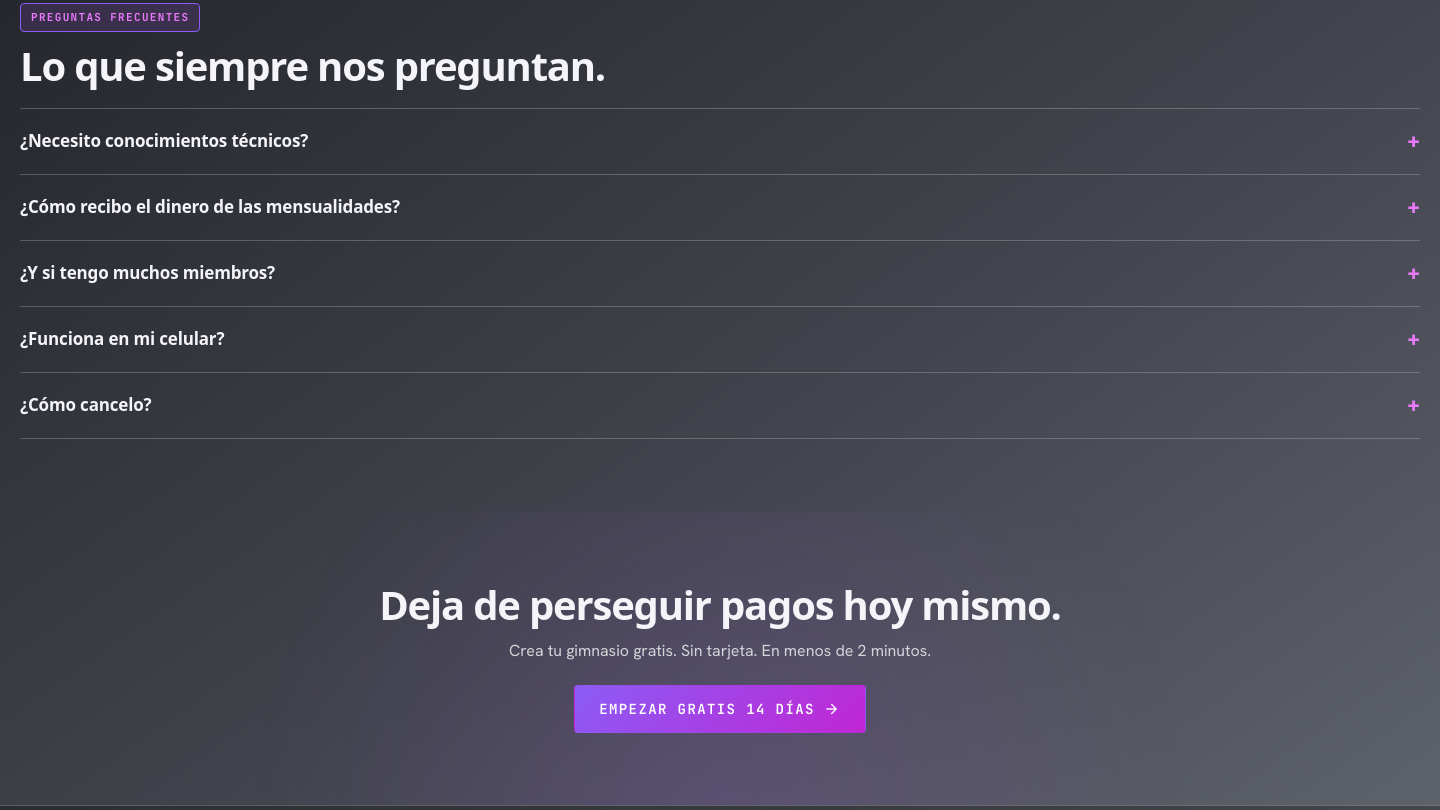
LandingPage: el contenido que decide la compra › should open the answer of a question when the user clicks it
The width and height of the screenshot is (1440, 810).
Click the heading "¿Cómo cancelo?". click: (86, 405)
box: [20,393,152,416]
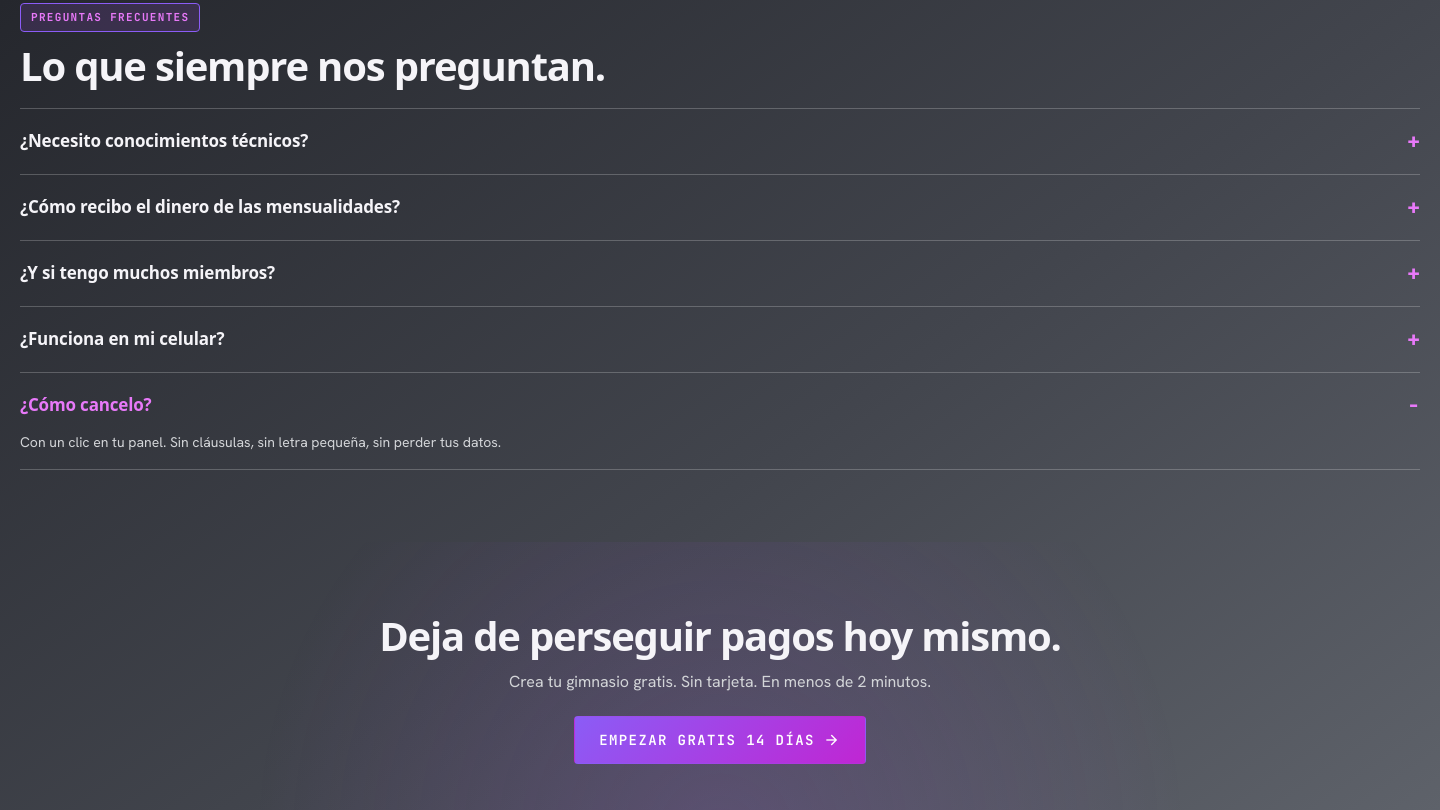
Expected: the element that starts with "¿Cómo cancelo?" shows "Con un clic en tu panel.", [20,432,501,450]
